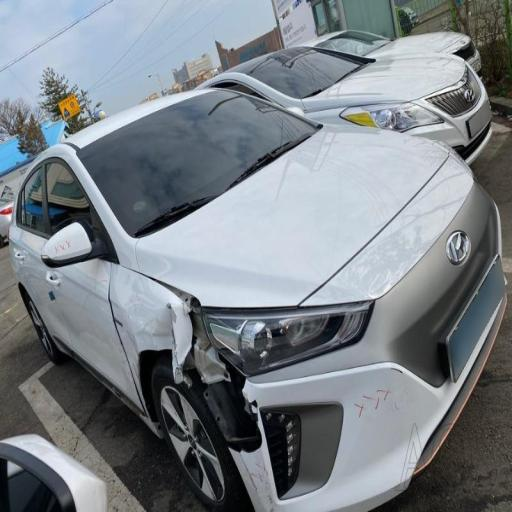broken: (115, 260, 247, 470)
scratch: (334, 383, 413, 458)
